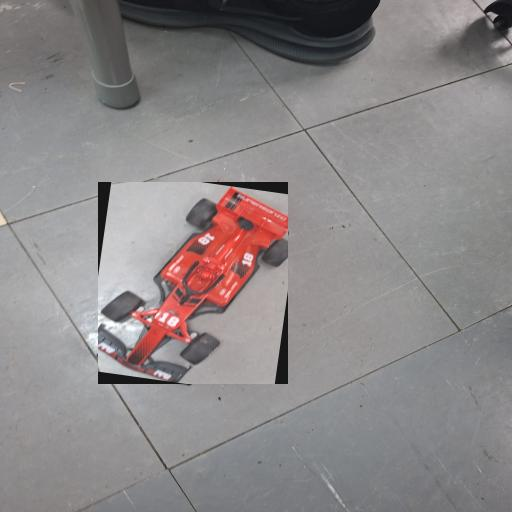carro: (98, 183, 288, 384)
